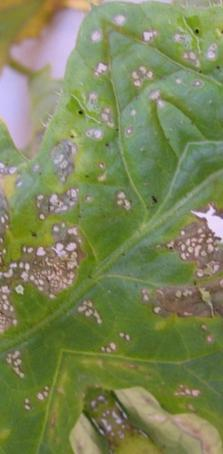Tomato Septoria leaf spot: (0, 19, 223, 454)
